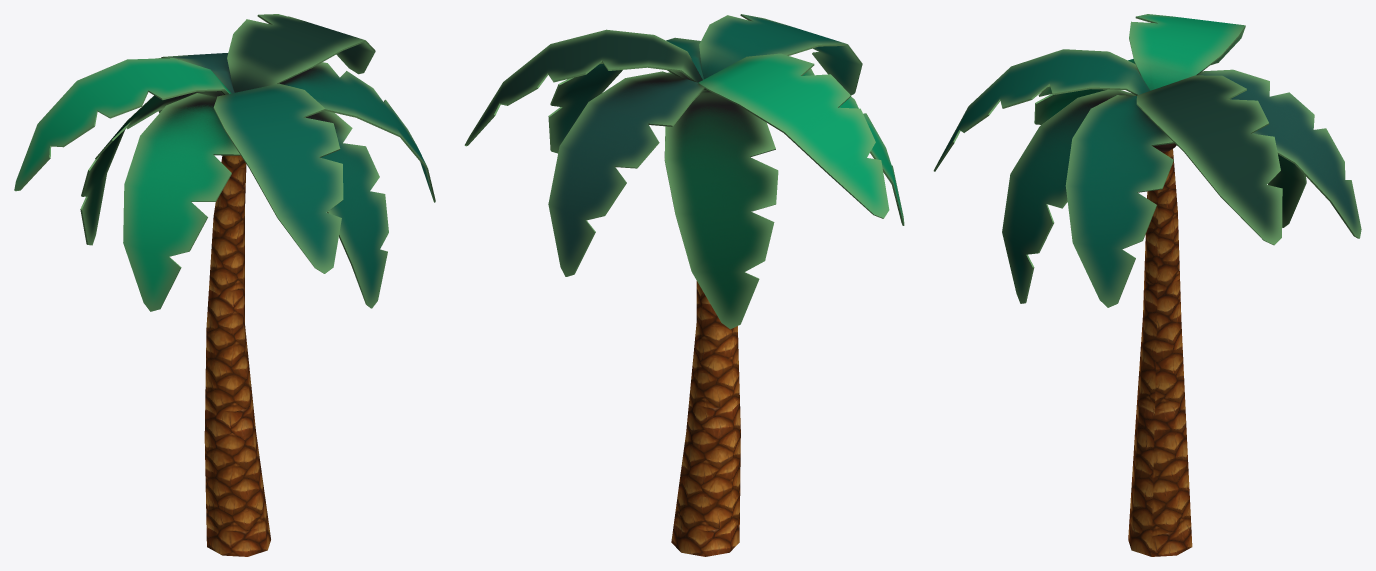
File: Palmera.fbx
The picture shows the model from 3 angles, left to right: view 1: azimuth 30°, elevation 25°; view 2: azimuth 150°, elevation 25°; view 3: azimuth 270°, elevation 25°; orthographic projection. The views are drawn at different scales.
Parts seen in each view (by area): view 1: Palmeras.001; view 2: Palmeras.001; view 3: Palmeras.001.
Part boxes in pixels (<box>): Palmeras.001: <box>14,14,435,556</box>; Palmeras.001: <box>464,14,904,556</box>; Palmeras.001: <box>933,14,1361,556</box>.
Size of the model in its own units: 1254 by 1526 by 1234.
Materials: 1 (1 with a texture image).
